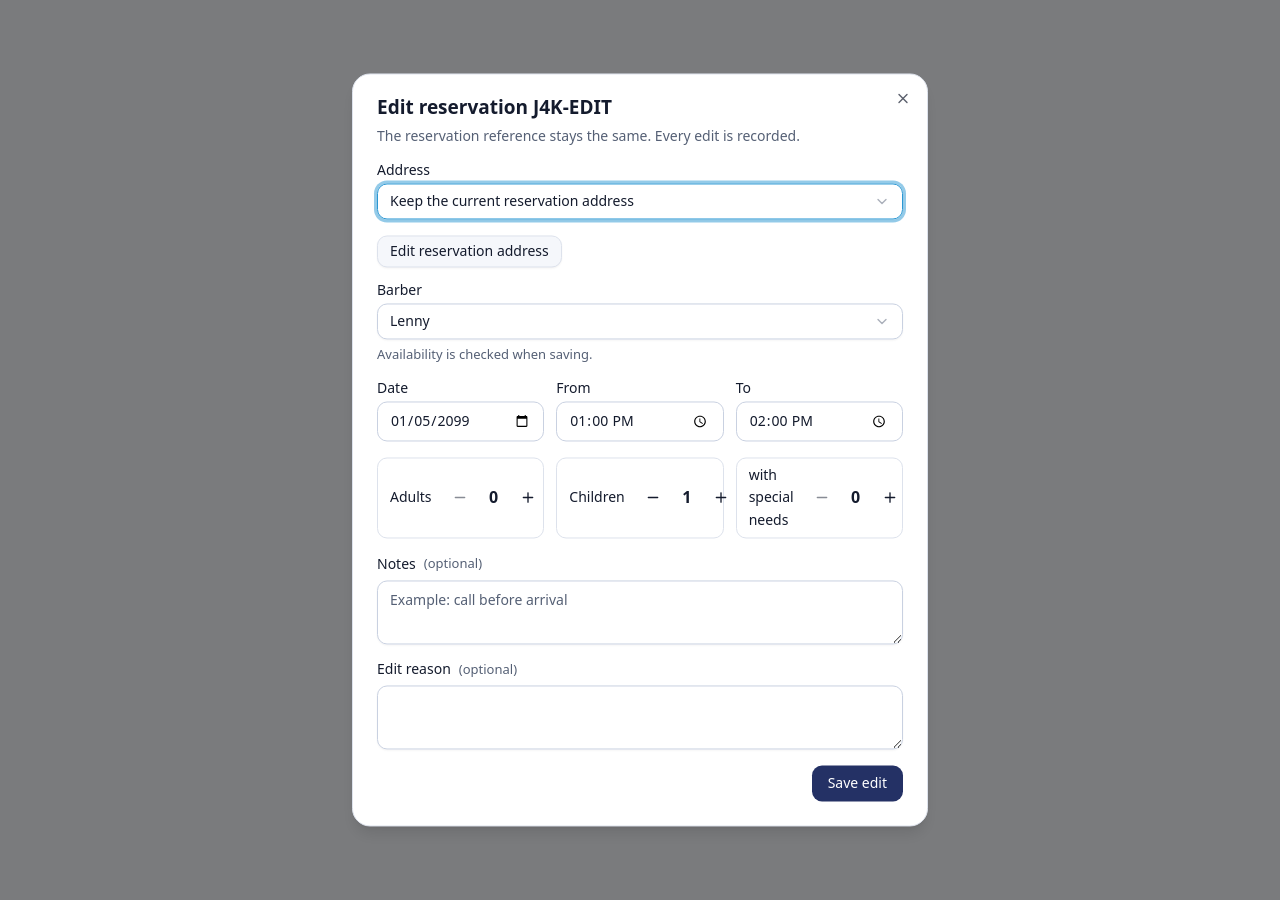
Scenario: keeps an incomplete address in the editor instead of saving it
Click the button "Edit reservation address".
click(469, 252)  # box x1=377 y1=236 x2=562 y2=268
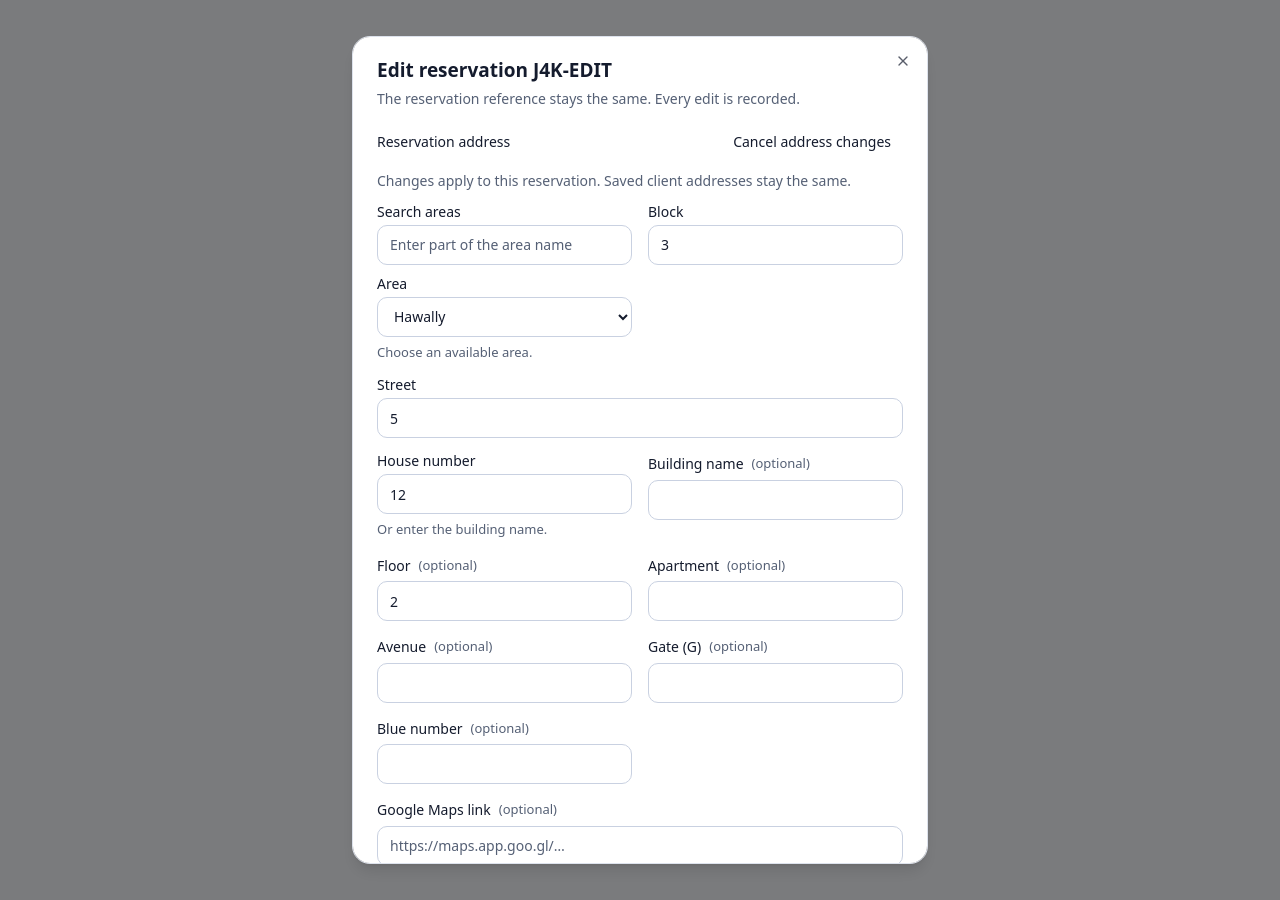
Clear the field labelled "Street" at (640, 418), box x1=377 y1=398 x2=903 y2=438
(page scrolled)
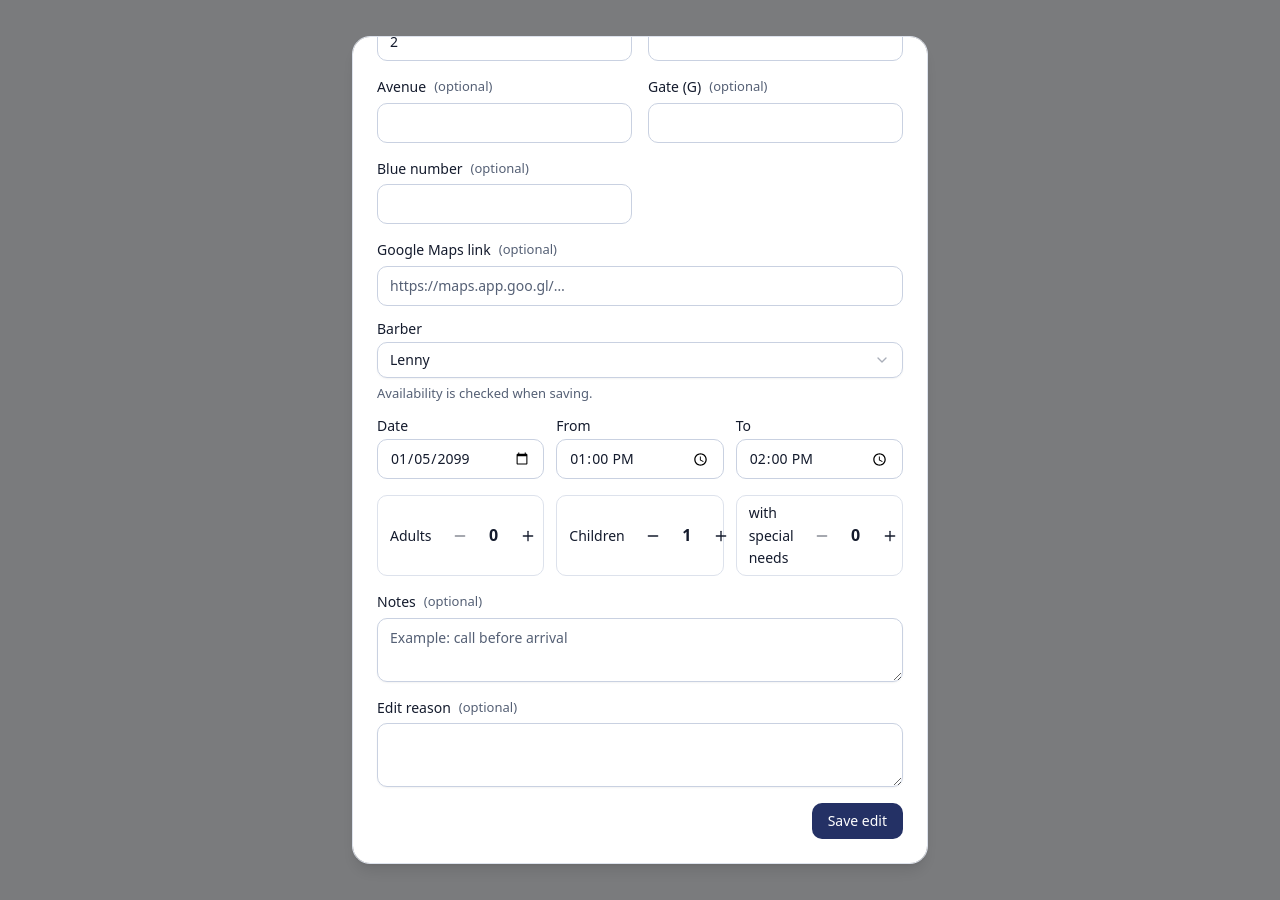
Click the button "Save edit".
click(857, 822)  # box x1=812 y1=804 x2=903 y2=840
(page scrolled)
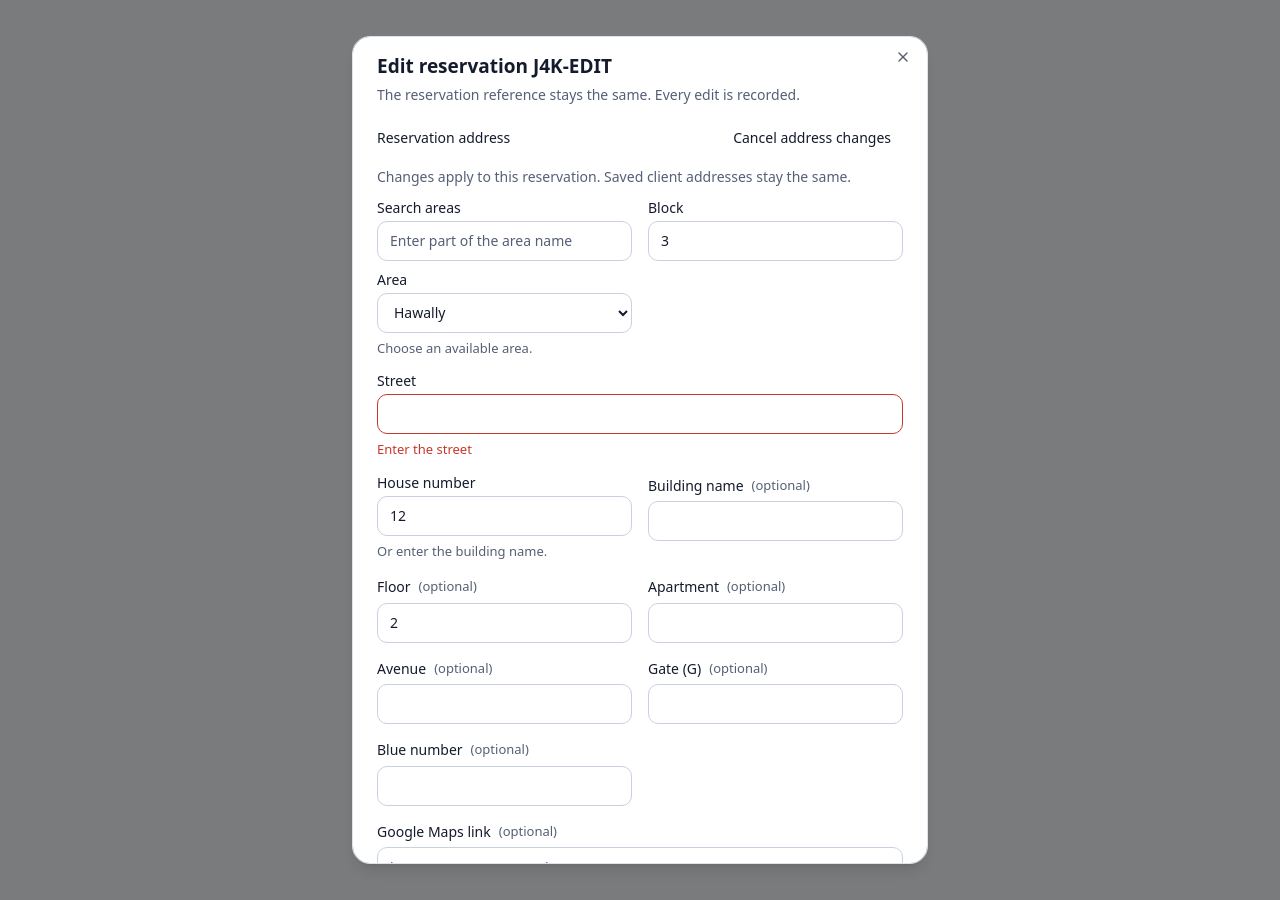
Result: the text "Enter the street" is shown at x1=377 y1=440 x2=472 y2=458
